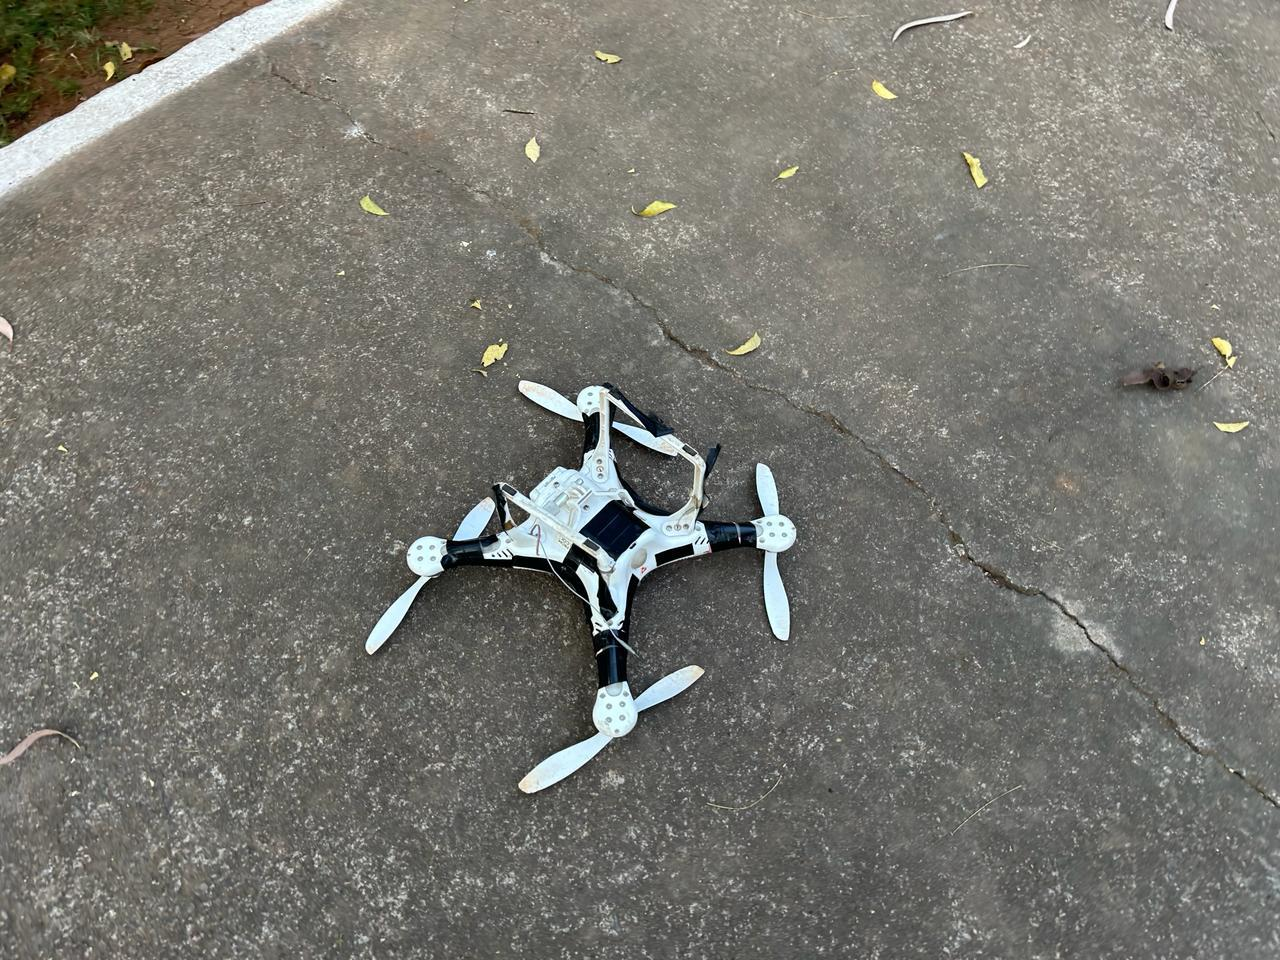drone: (252, 274, 929, 830)
